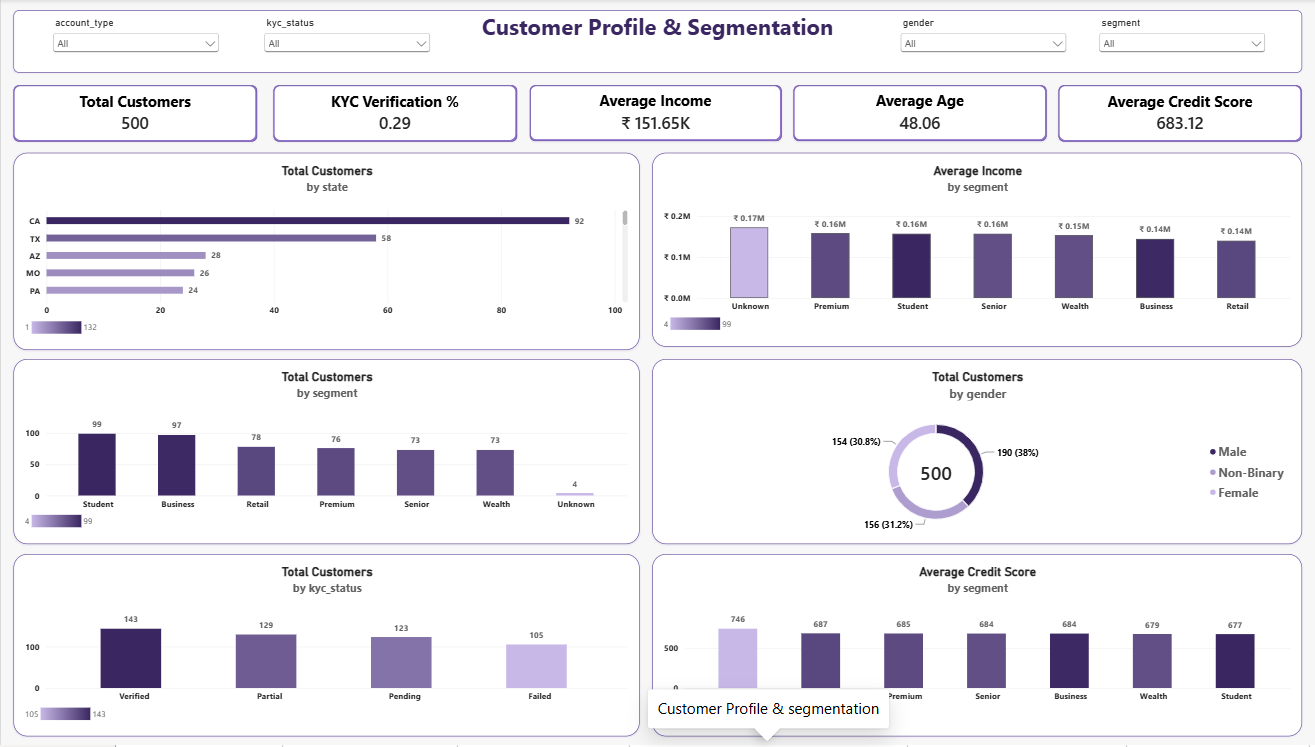

What the dashboard file says about the page in this screenshot:
{"tool":"powerbi","page":{"name":"Customer Profile & segmentation","canvas":[1920,1080],"ordinal":3},"visuals":[{"type":"textbox","box":[18.1,16.3,1865.8,90.5],"z":0},{"type":"cardVisual","fields":{"Data":["customers.Average Age"]},"box":[1146.6,124.9,366.8,80.6],"z":1000},{"type":"cardVisual","fields":{"Data":["Table.KYC Verification %"]},"box":[394.5,124.9,352.9,81.4],"z":2000},{"type":"cardVisual","fields":{"Data":["customers.Average Income"]},"box":[765.7,124.9,364.7,80.6],"z":3000},{"type":"slicer","fields":{"Values":["customers.segment"]},"box":[1585.3,25.3,250,75],"z":4000},{"type":"slicer","fields":{"Values":["accounts.account_type"]},"box":[70.6,25.3,250,75],"z":5000},{"type":"slicer","fields":{"Values":["customers.gender"]},"box":[1297.5,25.3,250,75],"z":6000},{"type":"slicer","fields":{"Values":["customers.kyc_status"]},"box":[376.4,25.3,250,75],"z":7000},{"type":"clusteredColumnChart","fields":{"Category":["customers.segment"],"Y":["Table.Total Customers"]},"box":[18.1,521.2,906.6,267.8],"z":8000},{"type":"donutChart","fields":{"Category":["customers.gender"],"Y":["Table.Total Customers"]},"box":[942.8,521.2,941,267.8],"z":9000},{"type":"clusteredBarChart","fields":{"Category":["customers.state"],"Y":["Table.Total Customers"]},"box":[18.1,222.6,906.6,285.9],"z":10000},{"type":"clusteredColumnChart","fields":{"Category":["customers.segment"],"Y":["customers.Average Income"]},"box":[942.8,222.6,941,280.5],"z":11000},{"type":"clusteredColumnChart","fields":{"Category":["customers.segment"],"Y":["customers.Average Credit Score"]},"box":[942.8,803.5,941,264.2],"z":12000},{"type":"clusteredColumnChart","fields":{"Category":["customers.kyc_status"],"Y":["Table.Total Customers"]},"box":[18.1,803.5,906.6,264.2],"z":13000},{"type":"cardVisual","fields":{"Data":["Table.Total Customers"]},"box":[18.1,124.9,352.9,81.4],"z":14000},{"type":"cardVisual","fields":{"Data":["customers.Average Credit Score"]},"box":[1531.5,124.9,352,81.4],"z":15000}]}

Visuals, with their boxes in screenshot pixels (x1, y1, x2, y2), scaled from the page's 1920x1080 canvas onto the 1315x747 screenshot:
textbox: BBox(12, 11, 1290, 74)
cardVisual - customers.Average Age: BBox(785, 86, 1037, 142)
cardVisual - Table.KYC Verification %: BBox(270, 86, 512, 143)
cardVisual - customers.Average Income: BBox(524, 86, 774, 142)
slicer - customers.segment: BBox(1086, 17, 1257, 69)
slicer - accounts.account_type: BBox(48, 17, 220, 69)
slicer - customers.gender: BBox(889, 17, 1060, 69)
slicer - customers.kyc_status: BBox(258, 17, 429, 69)
clusteredColumnChart - customers.segment x Table.Total Customers: BBox(12, 360, 633, 546)
donutChart - customers.gender x Table.Total Customers: BBox(646, 360, 1290, 546)
clusteredBarChart - customers.state x Table.Total Customers: BBox(12, 154, 633, 352)
clusteredColumnChart - customers.segment x customers.Average Income: BBox(646, 154, 1290, 348)
clusteredColumnChart - customers.segment x customers.Average Credit Score: BBox(646, 556, 1290, 738)
clusteredColumnChart - customers.kyc_status x Table.Total Customers: BBox(12, 556, 633, 738)
cardVisual - Table.Total Customers: BBox(12, 86, 254, 143)
cardVisual - customers.Average Credit Score: BBox(1049, 86, 1290, 143)
